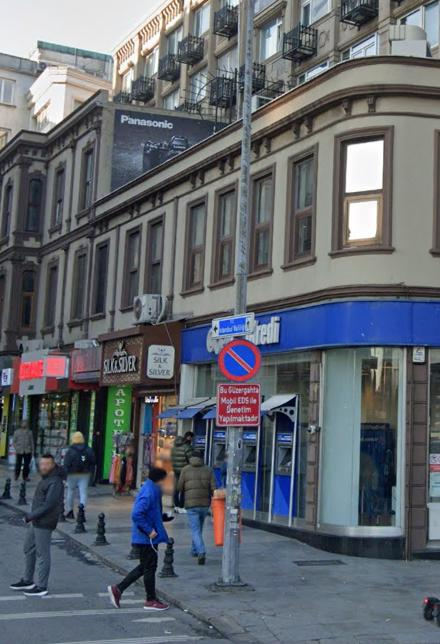nopark: (220, 342, 259, 383)
